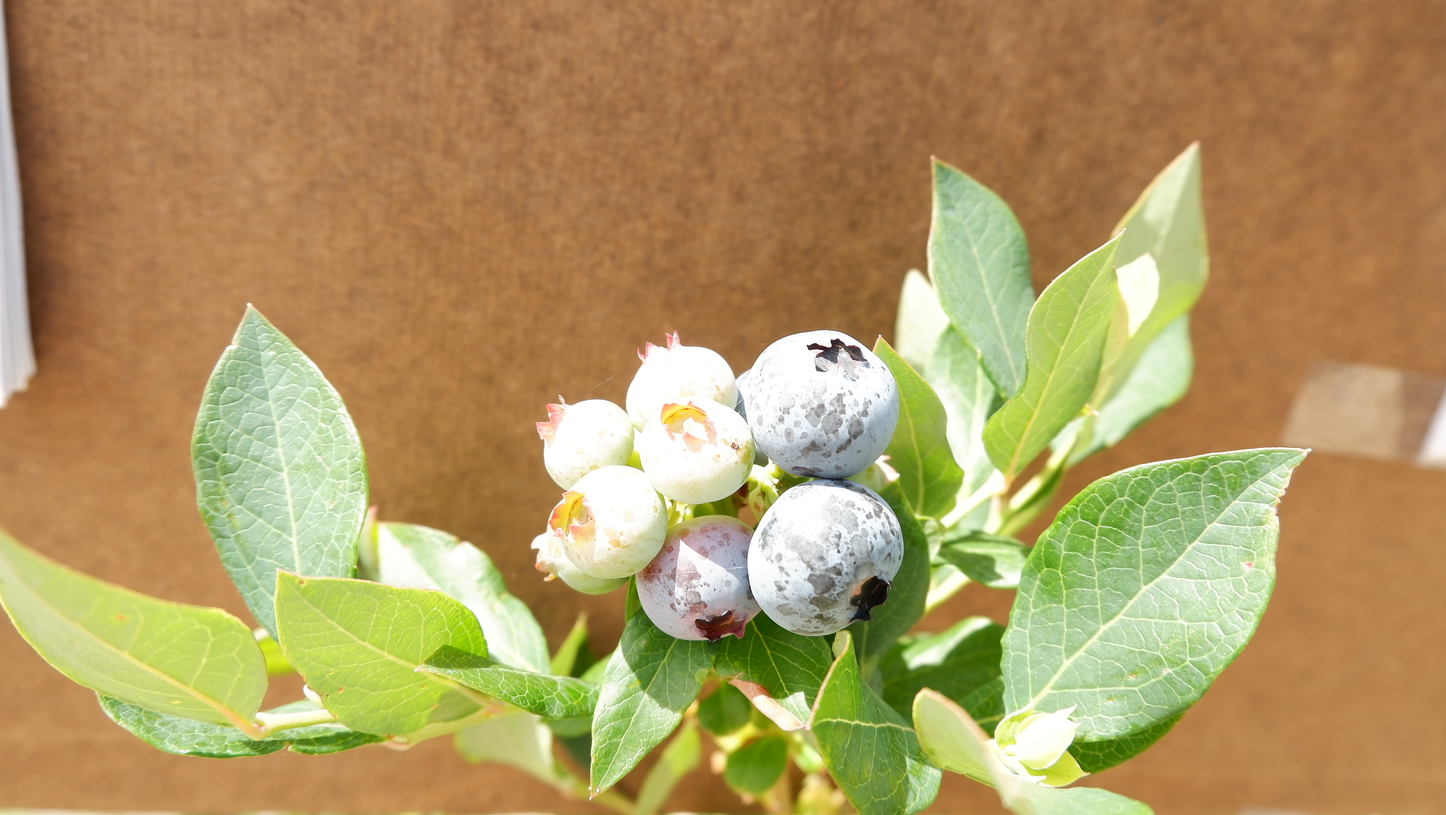Immature: (636, 516, 763, 642), (550, 467, 668, 578), (636, 397, 756, 503), (628, 332, 738, 431), (536, 393, 634, 490), (532, 521, 630, 596)
Mature: (745, 478, 904, 637), (745, 331, 898, 479), (734, 370, 752, 423)
